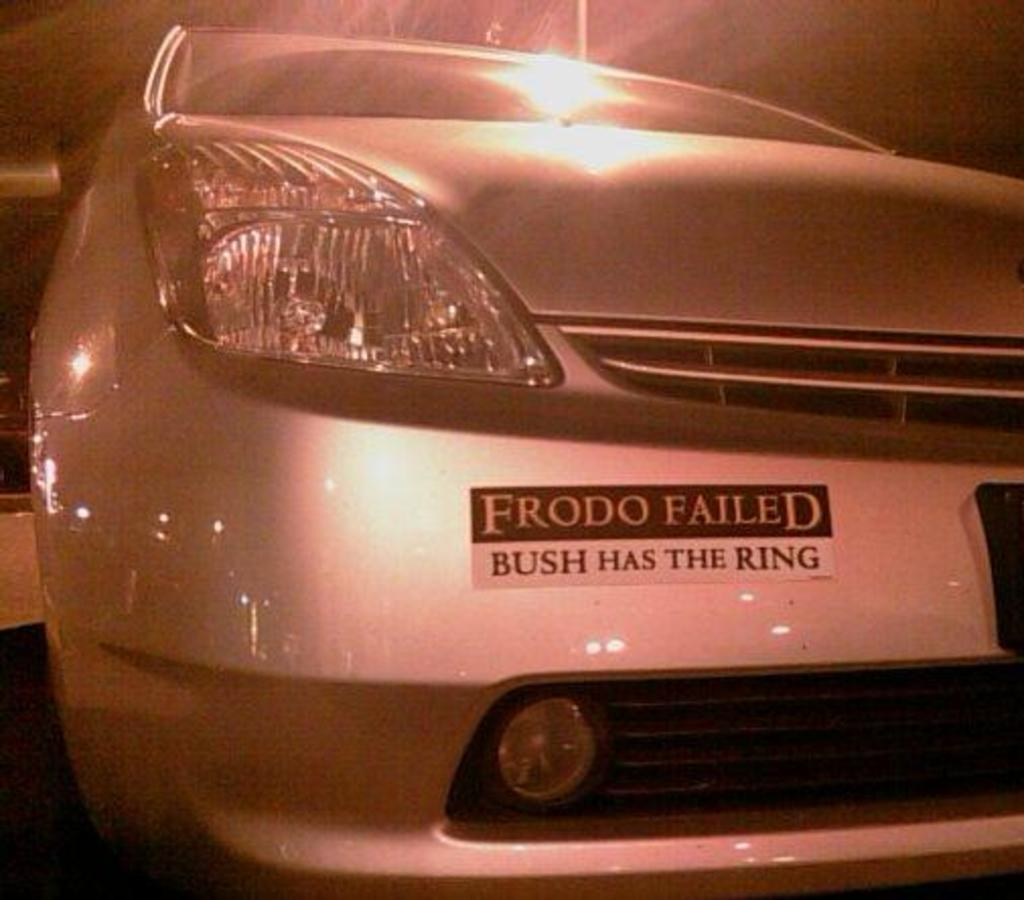cars: (0, 0, 1021, 897)
